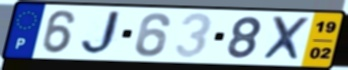3: (173, 12, 217, 61)
6: (133, 12, 172, 59), (41, 10, 78, 55)
8: (225, 15, 263, 60)
J: (79, 10, 128, 58)
X: (260, 15, 312, 63)
